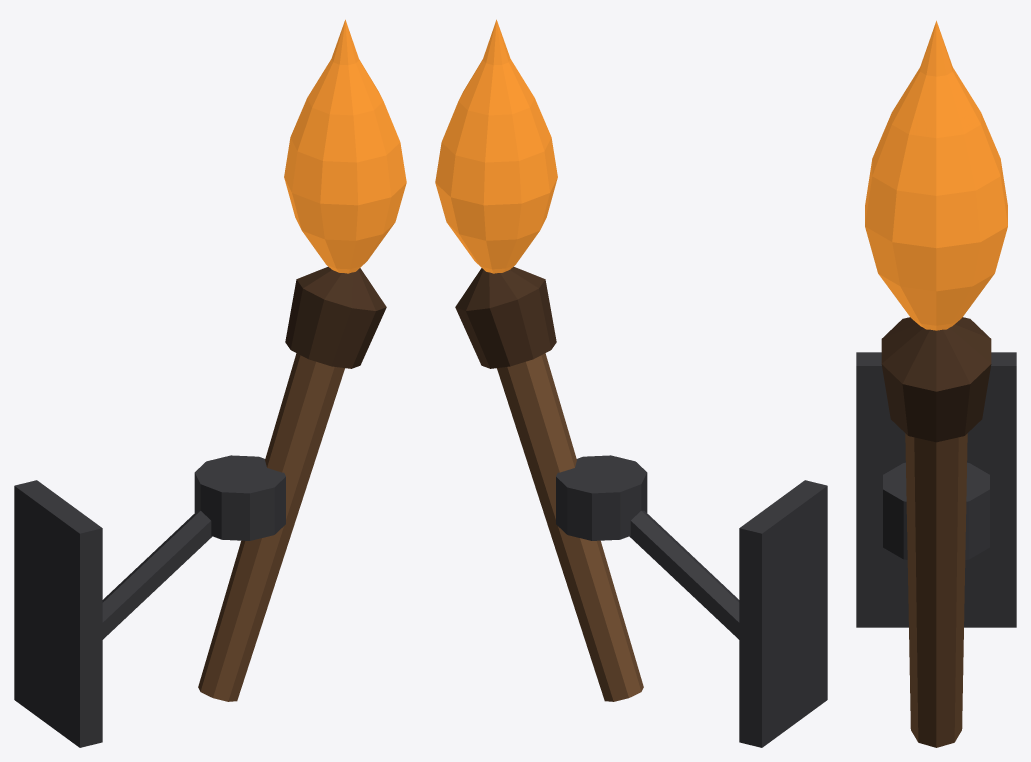
Rendered from lampa_nastenna.glb.
3 renders of one model, left to right at view 1: azimuth 30°, elevation 25°; view 2: azimuth 150°, elevation 25°; view 3: azimuth 270°, elevation 25°, orthographic. The views are drawn at different scales.
Parts seen in each view (by area): view 1: lampa_nastenna, noc; view 2: lampa_nastenna, noc; view 3: lampa_nastenna, noc.
Part boxes in pixels (bbox=[...]): lampa_nastenna: bbox=[14, 266, 386, 747]; noc: bbox=[284, 19, 406, 273]; lampa_nastenna: bbox=[455, 266, 827, 747]; noc: bbox=[435, 19, 557, 273]; lampa_nastenna: bbox=[856, 317, 1016, 747]; noc: bbox=[865, 20, 1007, 330].
Bounding box in the file's own units: 0.3093 × 0.5506 × 0.1.
2 materials, 2 textured.
